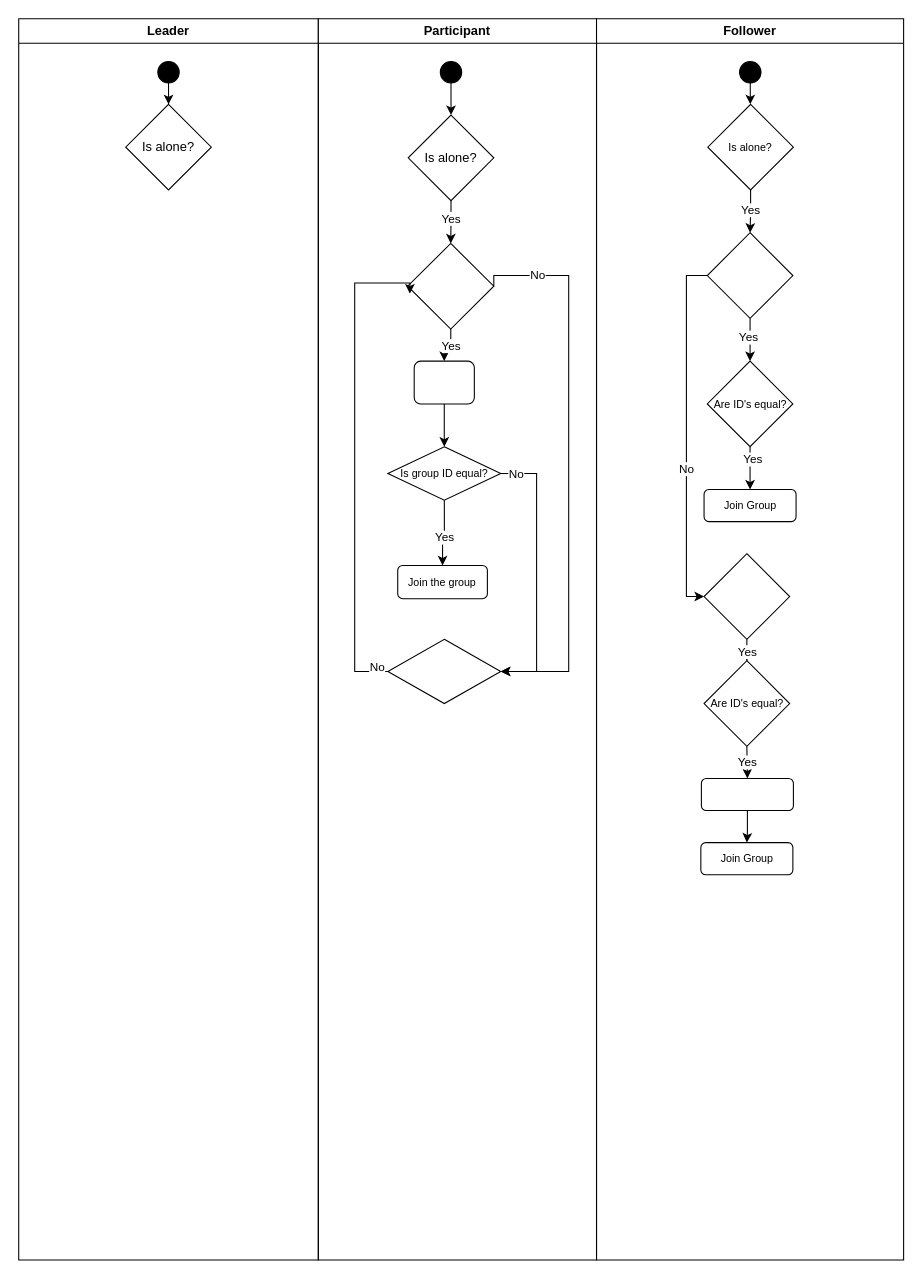
Some shapes in this 922 by 1279 pixel diagram are drawn without their labels. Here are the shapes that lost their labels. From the top down, the centre of each, then its label:
At pixel 450 285: "See groups around?".
At pixel 749 275: "Is another asking you?".
At pixel 443 382: "Go to group".
At pixel 746 596: "Is another announcing its ID.".
At pixel 444 671: "Is another agent asking?".
At pixel 746 794: "Go to agent".
